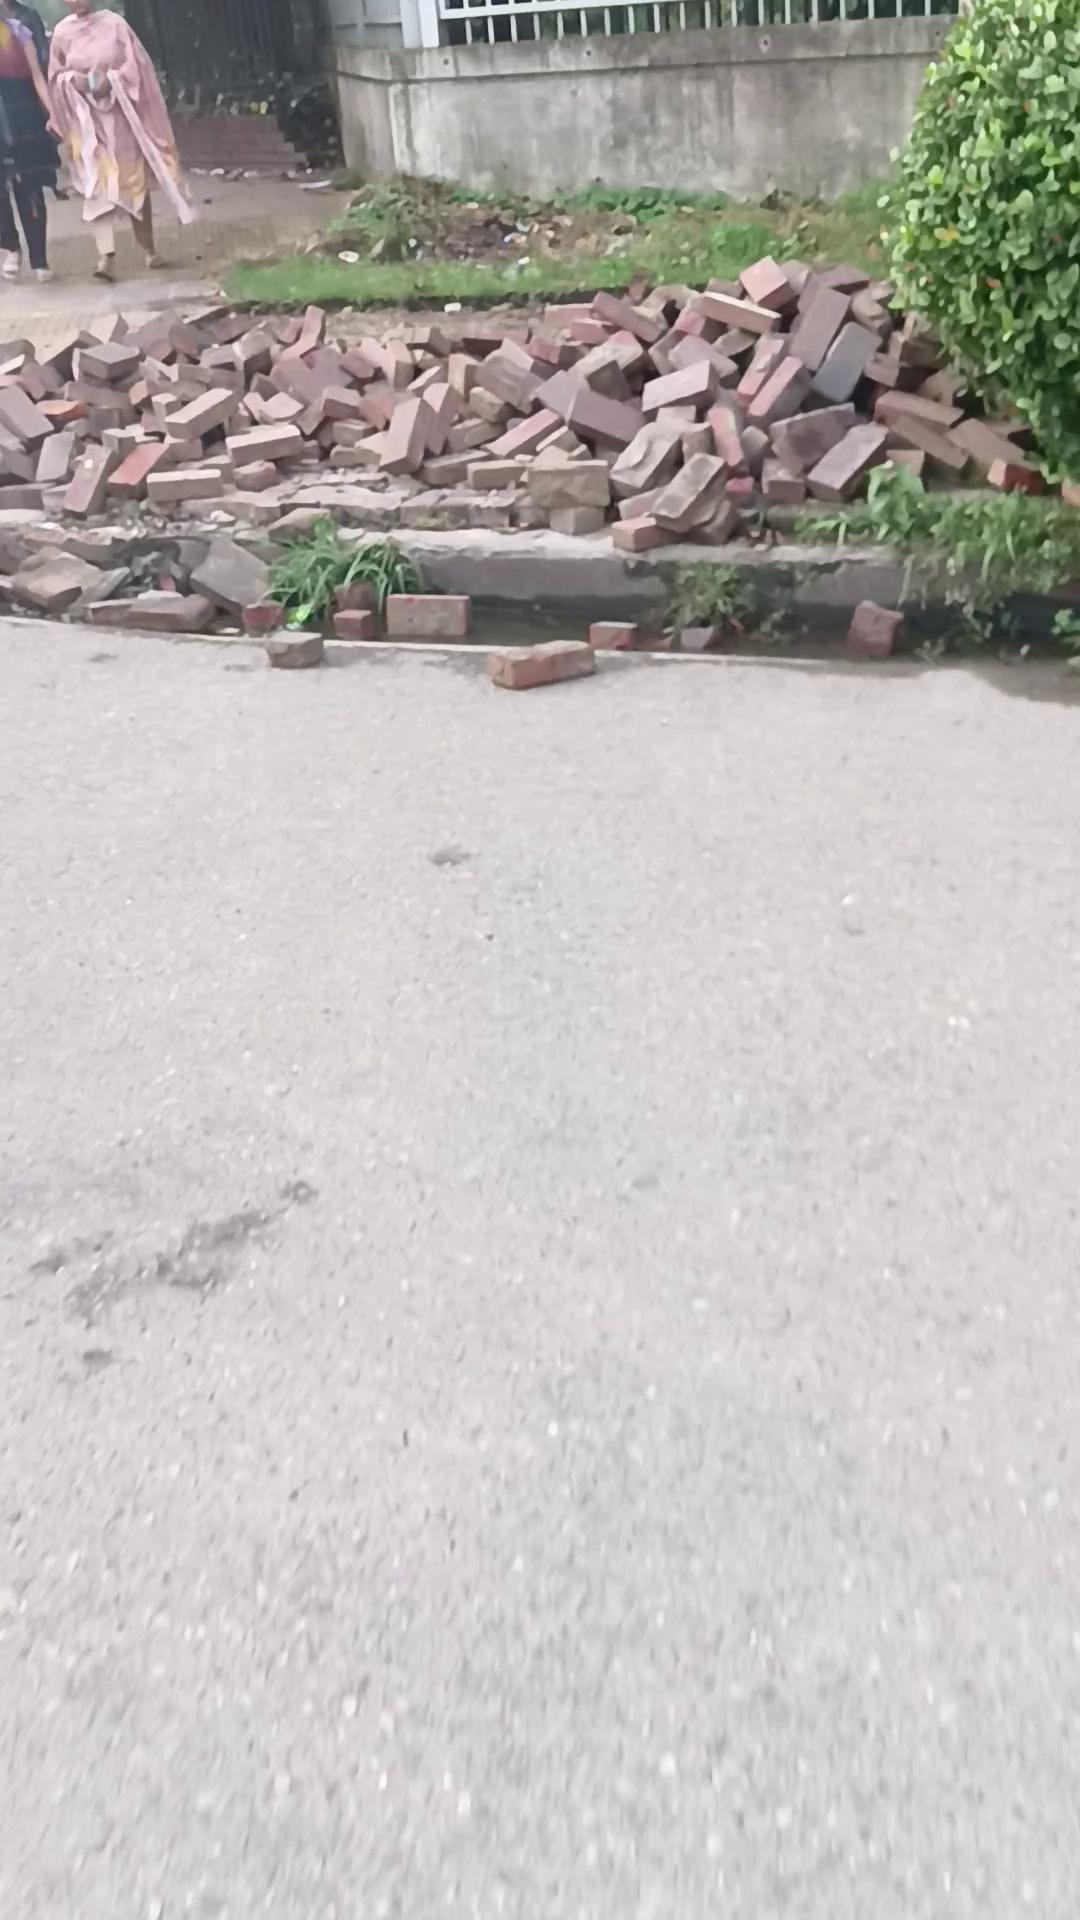Crosswalk: (313, 524, 1075, 638)
Motorcycle: (0, 261, 1080, 702)
Muddy road: (44, 0, 196, 282), (0, 1, 65, 284)
Potted-plant: (0, 108, 367, 363)
